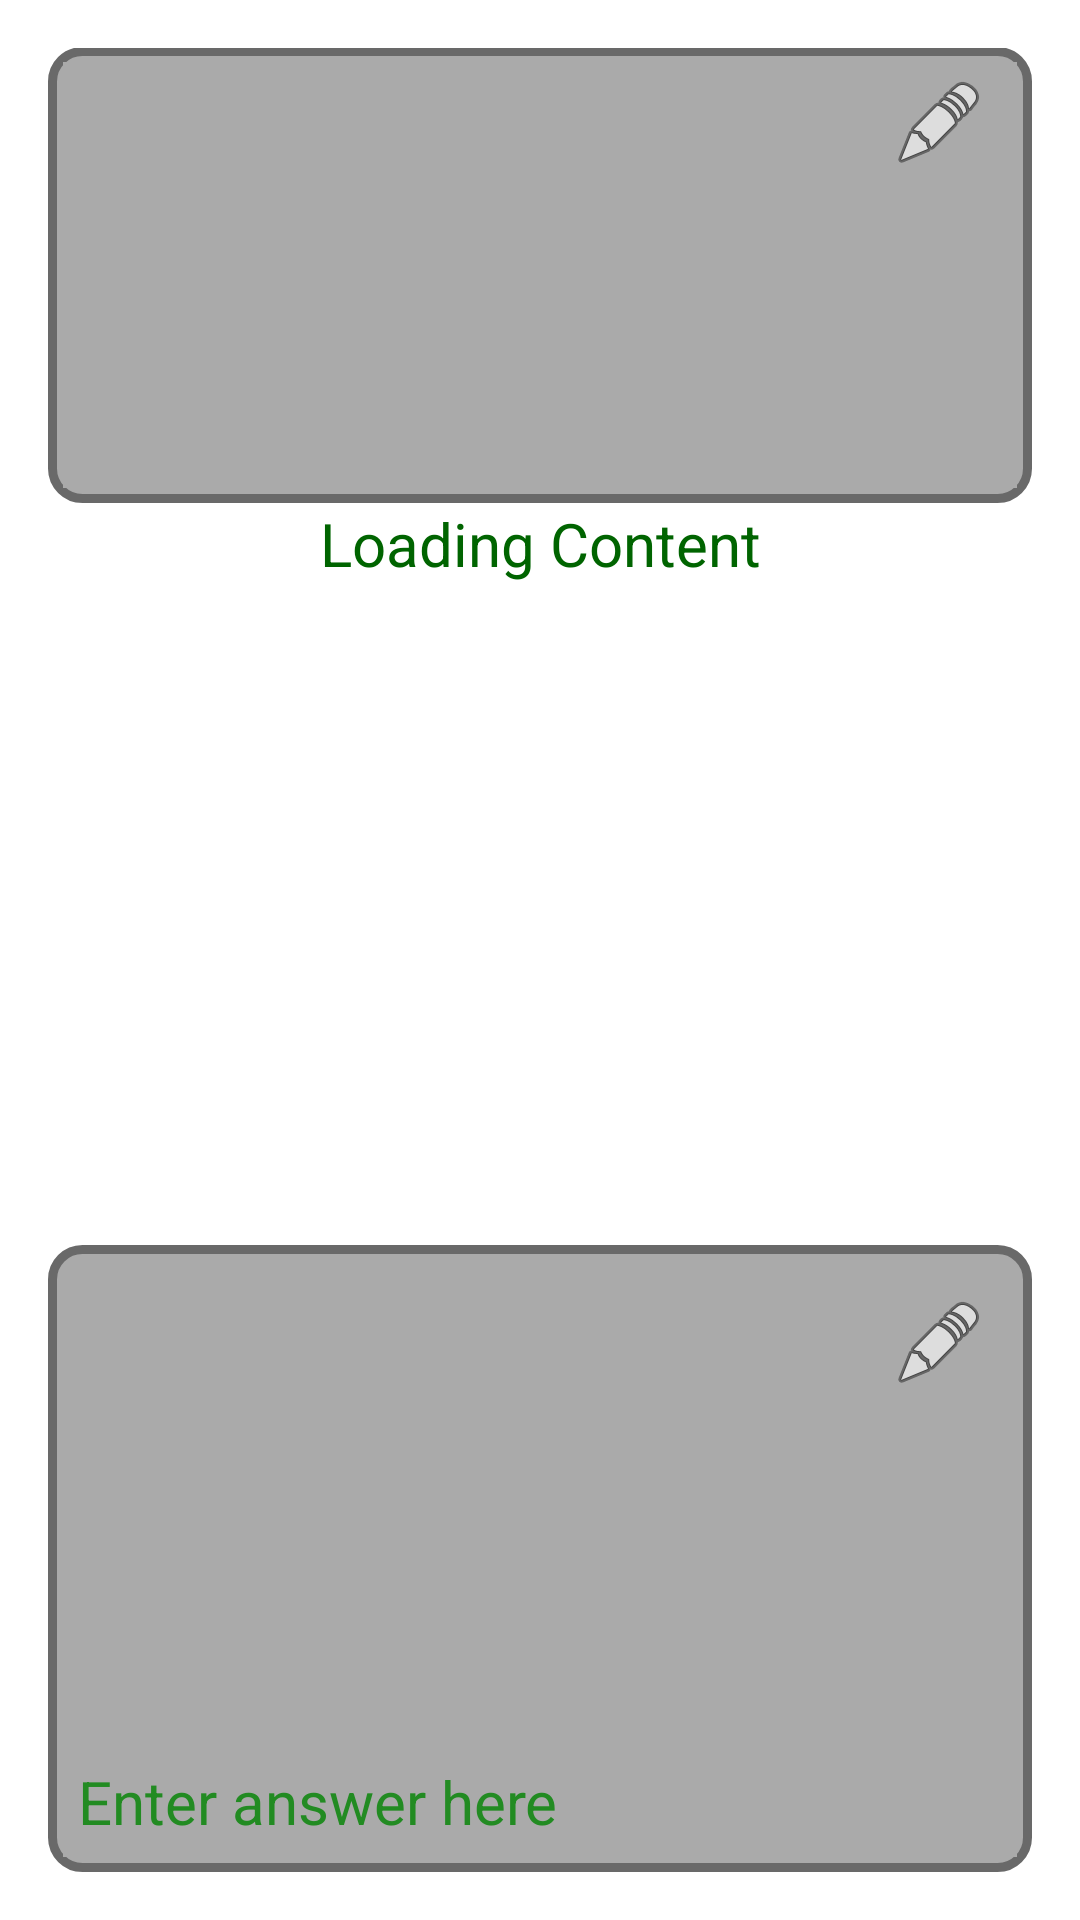

Screen size 1080w x 1920h. Icon name, then its center in pixels as (x,y):
edit: (938,122), (938,1342)
